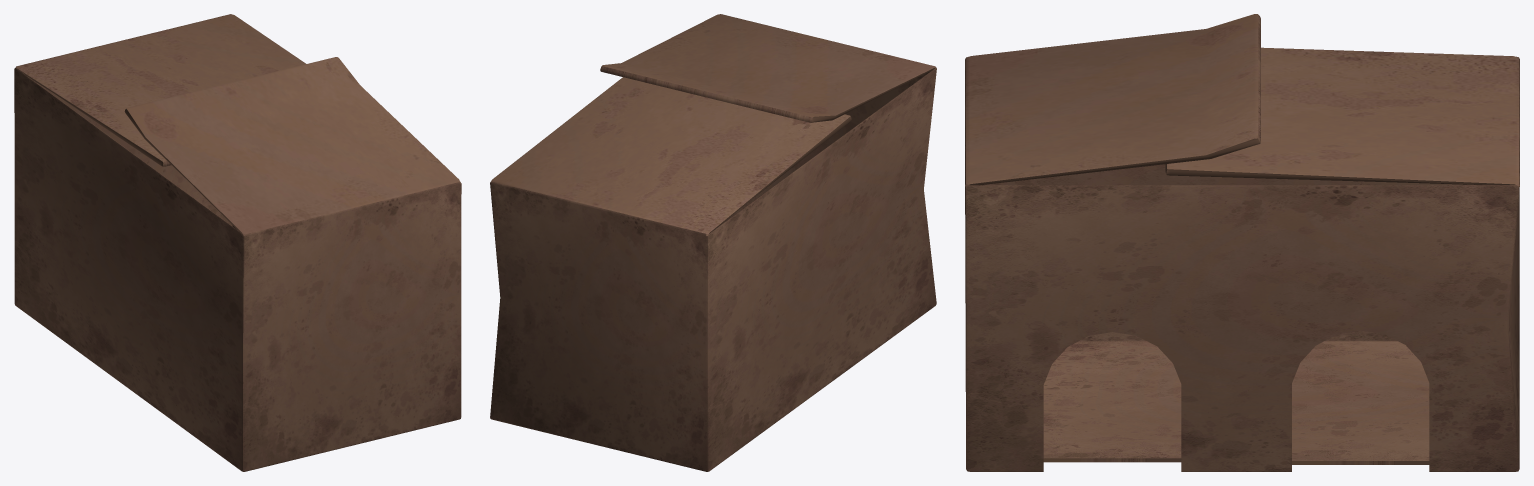
Rendered from boxHouse_2.fbx.
3 renders of one model, left to right at view 1: azimuth 30°, elevation 25°; view 2: azimuth 150°, elevation 25°; view 3: azimuth 270°, elevation 25°, orthographic. The views are drawn at different scales.
Parts seen in each view (by area): view 1: Box004; view 2: Box004; view 3: Box004.
Boxes of the visible parts, <box> form: Box004: <box>14,14,461,471</box>; Box004: <box>490,14,936,471</box>; Box004: <box>965,14,1519,471</box>.
Bounding box in the file's own units: 17.49 × 21.04 × 31.82.
